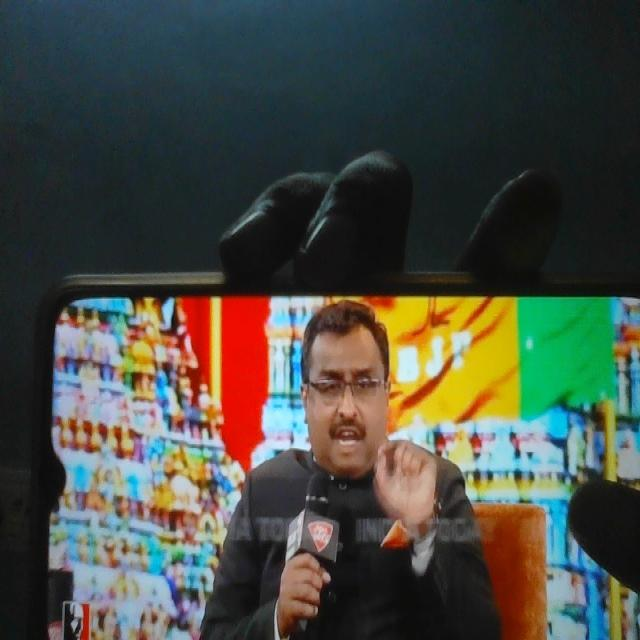fake: (292, 287, 395, 481)
